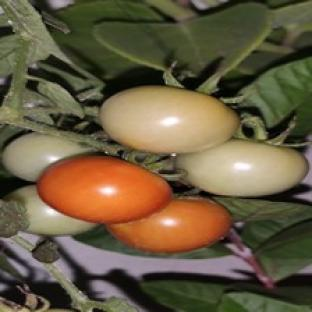Tomato: (101, 85, 239, 153), (38, 156, 171, 222), (176, 140, 309, 196), (108, 198, 232, 253), (6, 186, 97, 236), (2, 133, 91, 181)
